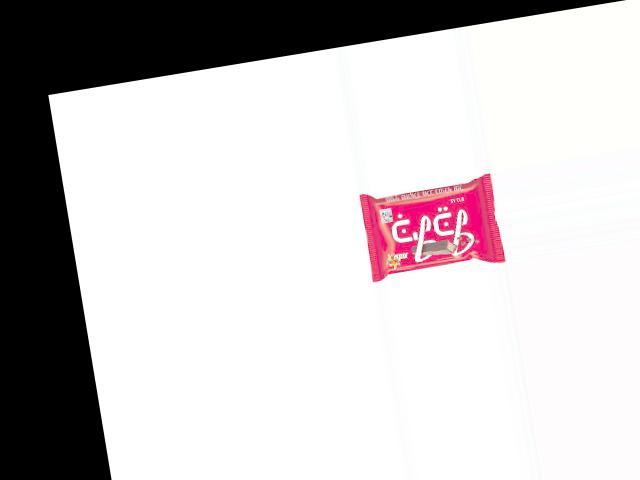chocolate: (359, 171, 504, 282)
